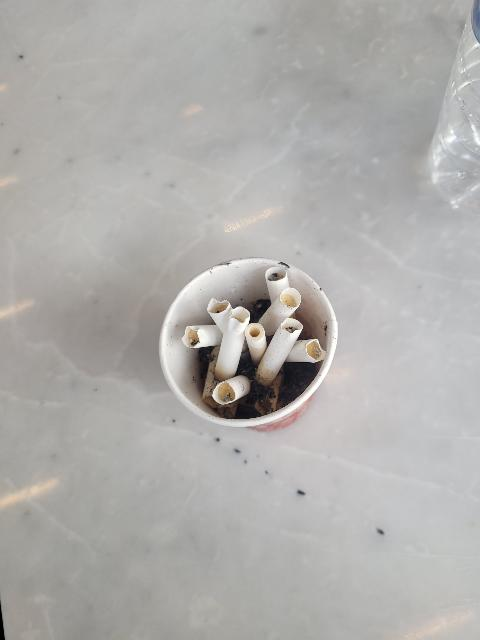Plastik: (152, 252, 348, 450)
